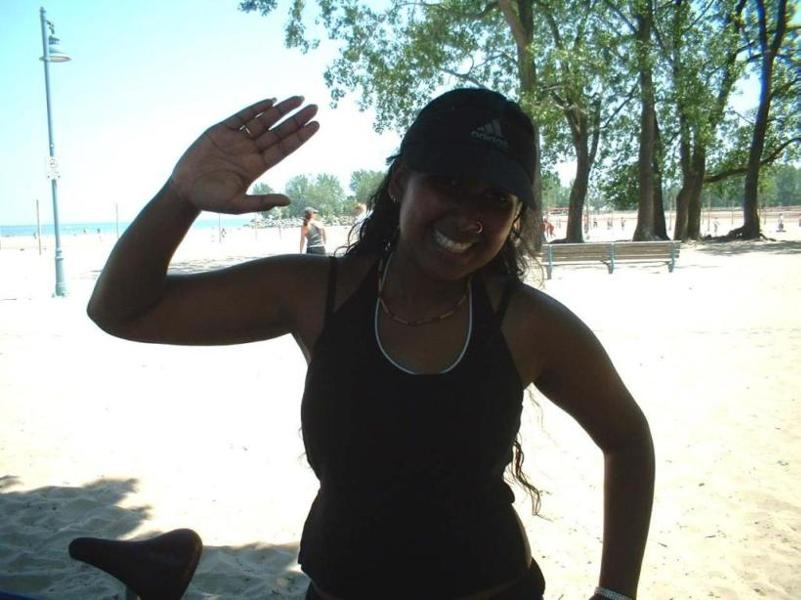person: (88, 89, 656, 600)
